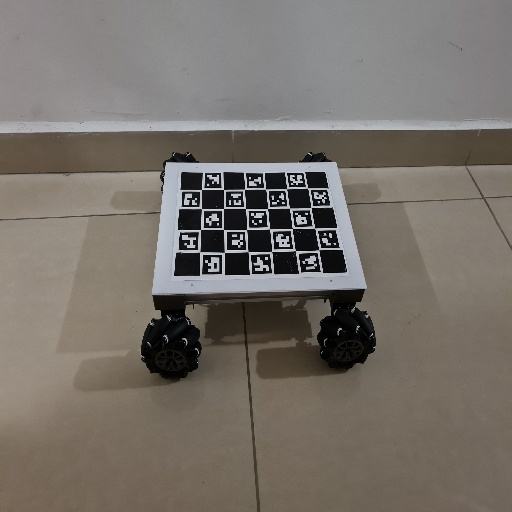Omniwheel: (139, 150, 379, 383)
